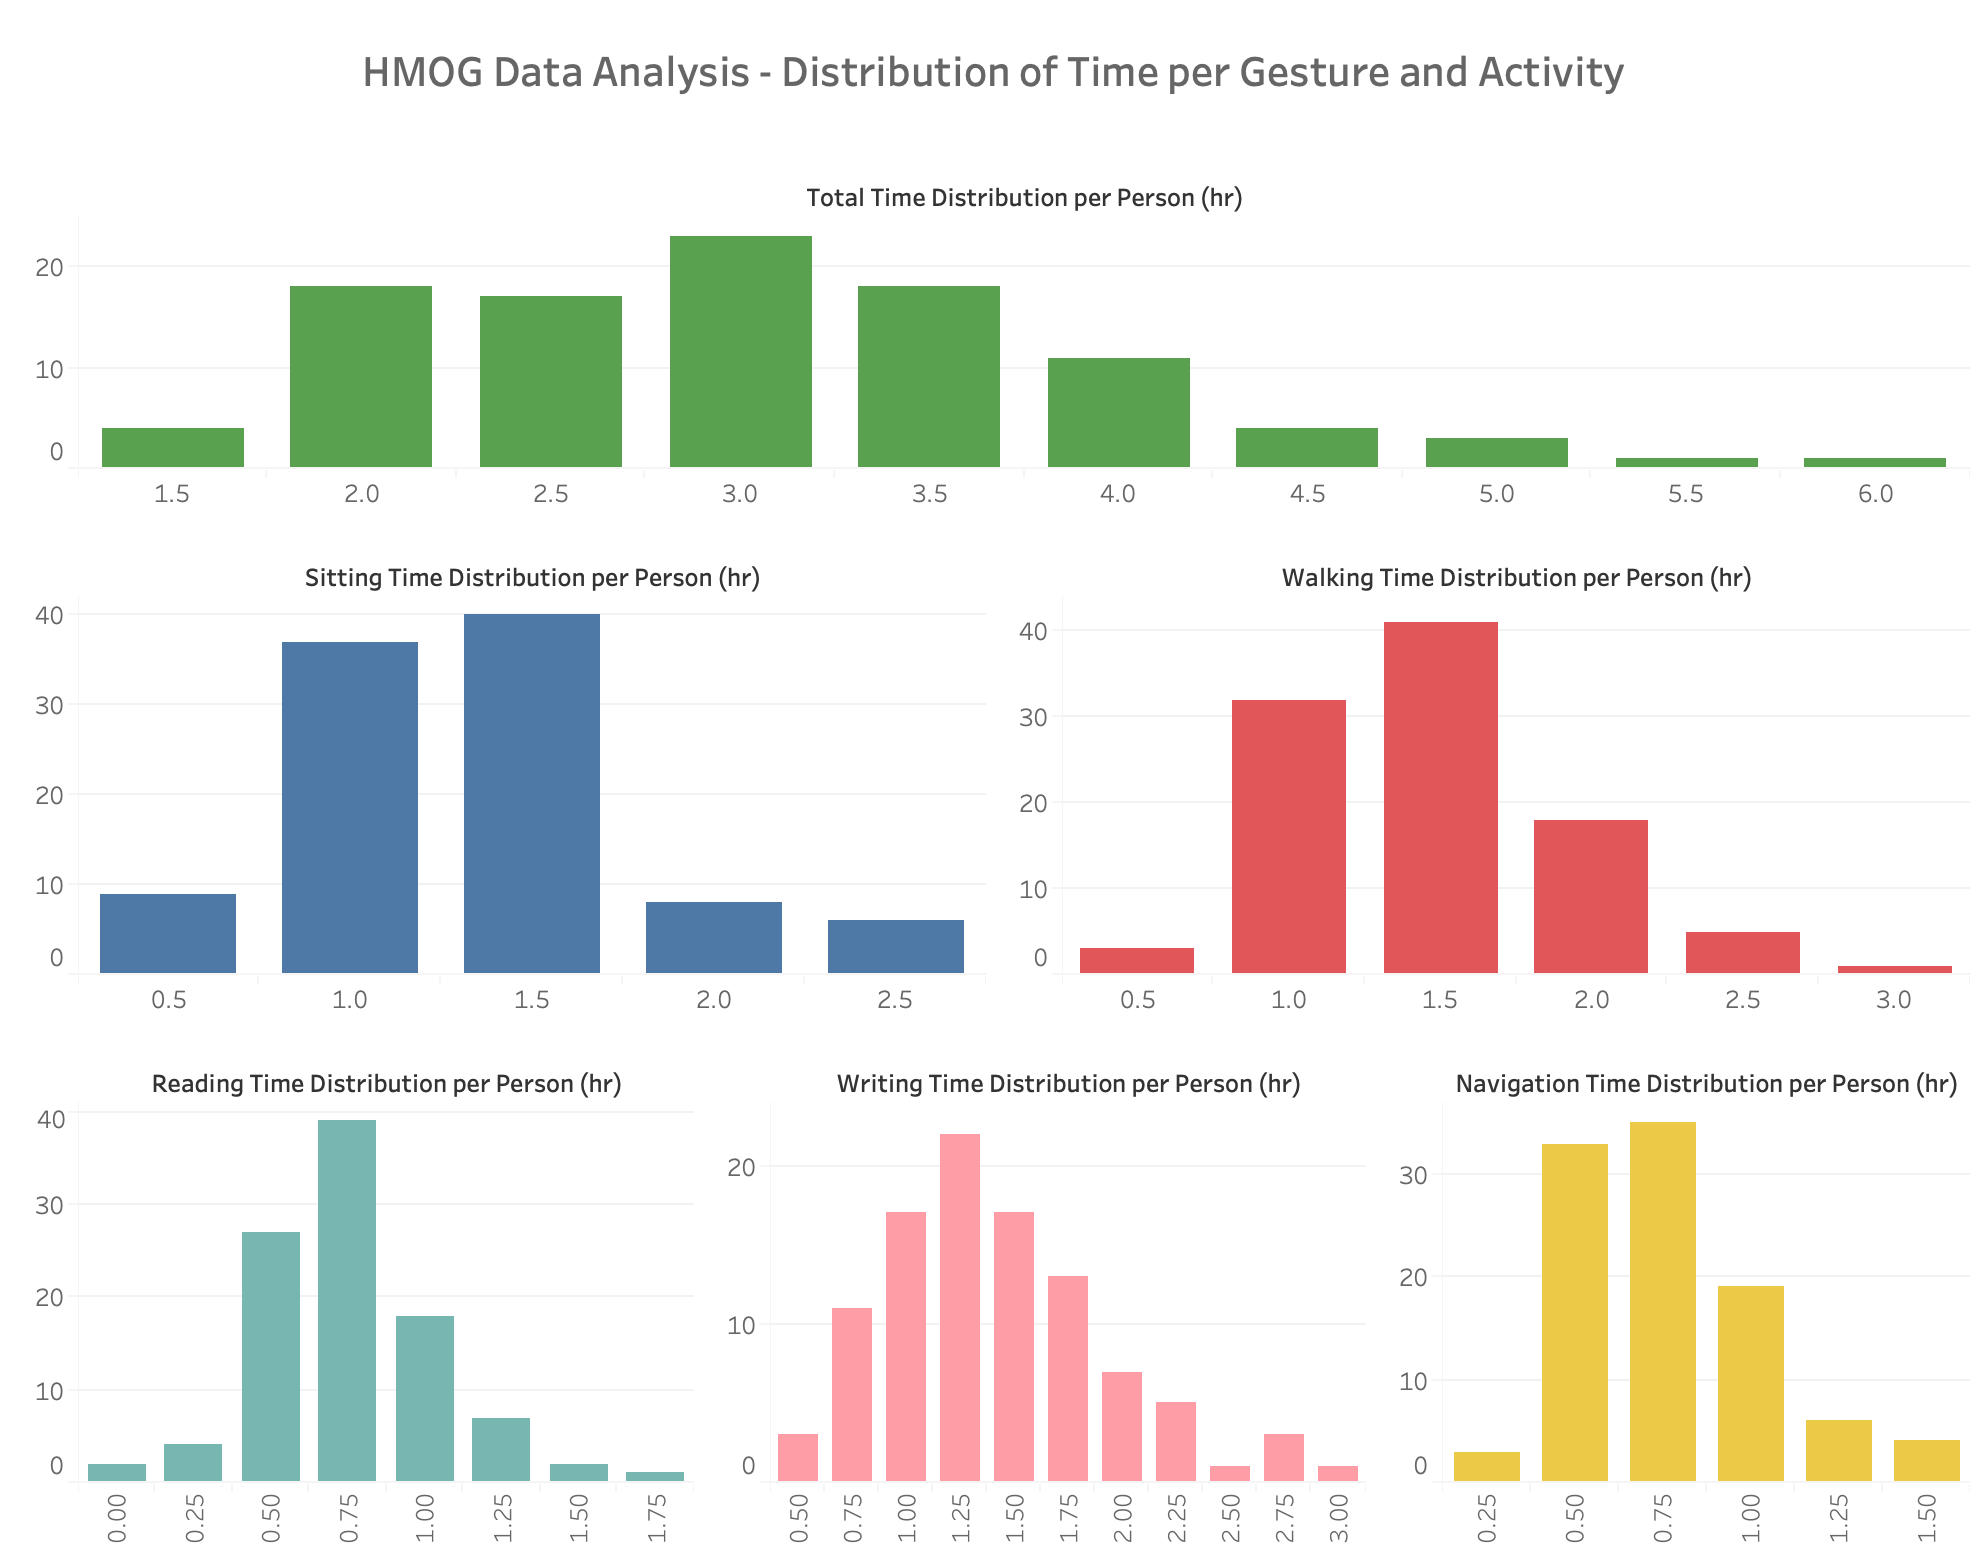

What the dashboard file says about the page in this screenshot:
{"tool":"tableau","page":{"name":"Dashboard 1","canvas":[1000,800],"ordinal":0},"visuals":[{"type":"worksheet","box":[0,0,1000,800]},{"type":"worksheet","box":[8,8,984,68]},{"type":"worksheet","title":"Total Time","mark":"Automatic","rows":["people"],"cols":["Total Time Hr (bin)"],"box":[8,76,984,190]},{"type":"worksheet","title":"Sit Time","mark":"Automatic","rows":["people"],"cols":["Sit Time Hr (bin)"],"box":[8,266,492,253]},{"type":"worksheet","title":"Walk Time","mark":"Automatic","rows":["people"],"cols":["Walk Time Hr (bin)"],"box":[500,266,492,253]},{"type":"worksheet","title":"Read Time","mark":"Automatic","rows":["people"],"cols":["Read Time Hr (bin)"],"box":[8,519,346,273]},{"type":"worksheet","title":"Write Time","mark":"Automatic","rows":["people"],"cols":["Write Time Hr (bin)"],"box":[354,519,336,273]},{"type":"worksheet","title":"Navigation Time","mark":"Automatic","rows":["people"],"cols":["Nav Time Hr (bin)"],"box":[690,519,302,273]}]}

Visuals, with their boxes in screenshot pixels (x1, y1, x2, y2), scaled from the page's 1000x800 canvas onto the 1984x1566 screenshot:
worksheet: left=0, top=0, right=1983, bottom=1565
worksheet: left=16, top=16, right=1968, bottom=149
"Total Time" worksheet: left=16, top=149, right=1968, bottom=521
"Sit Time" worksheet: left=16, top=521, right=992, bottom=1016
"Walk Time" worksheet: left=992, top=521, right=1968, bottom=1016
"Read Time" worksheet: left=16, top=1016, right=702, bottom=1550
"Write Time" worksheet: left=702, top=1016, right=1369, bottom=1550
"Navigation Time" worksheet: left=1369, top=1016, right=1968, bottom=1550
